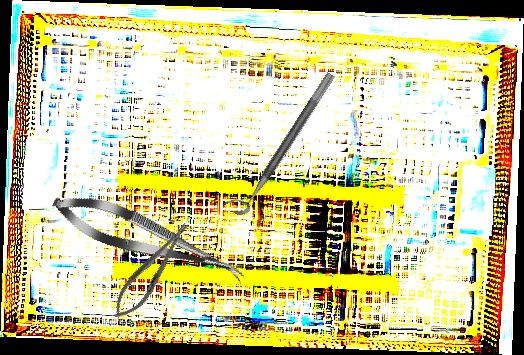Fixation Ring: (222, 63, 337, 220)
Micro Scissor: (46, 182, 252, 295)
Needle Holder: (105, 215, 198, 327)
